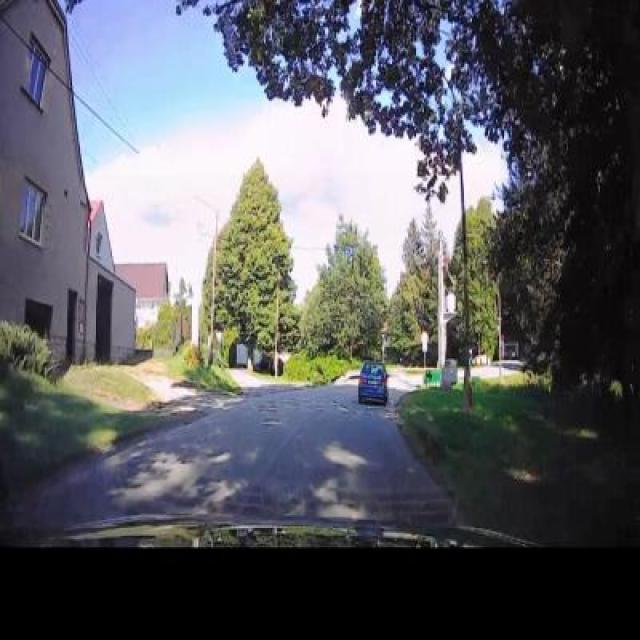clear-road: (16, 385, 446, 534)
